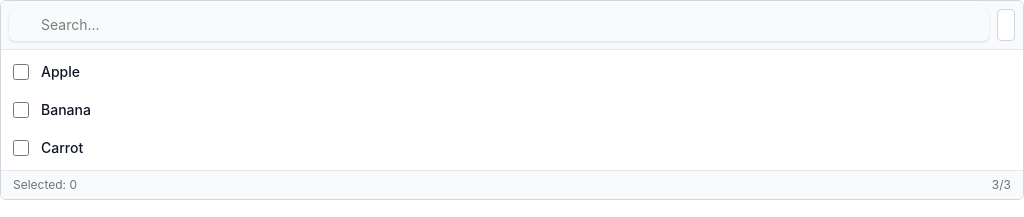
Test: SearchableCheckboxList.vue › filters items based on search query
The image size is (1024, 217).
Type "Carrot" into the field with placeholder "Search..." at {"x": 499, "y": 25}, box [9,9,989,41]
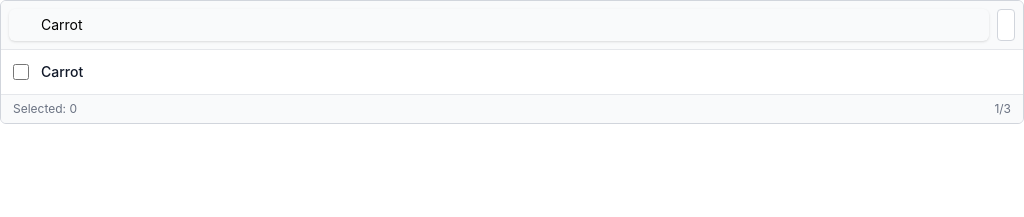
Check: the text "Carrot" is shown, box [41,63,83,80]
Check: the number of labels is 1, box [13,63,83,80]
Check: the text "Apple" is gone
